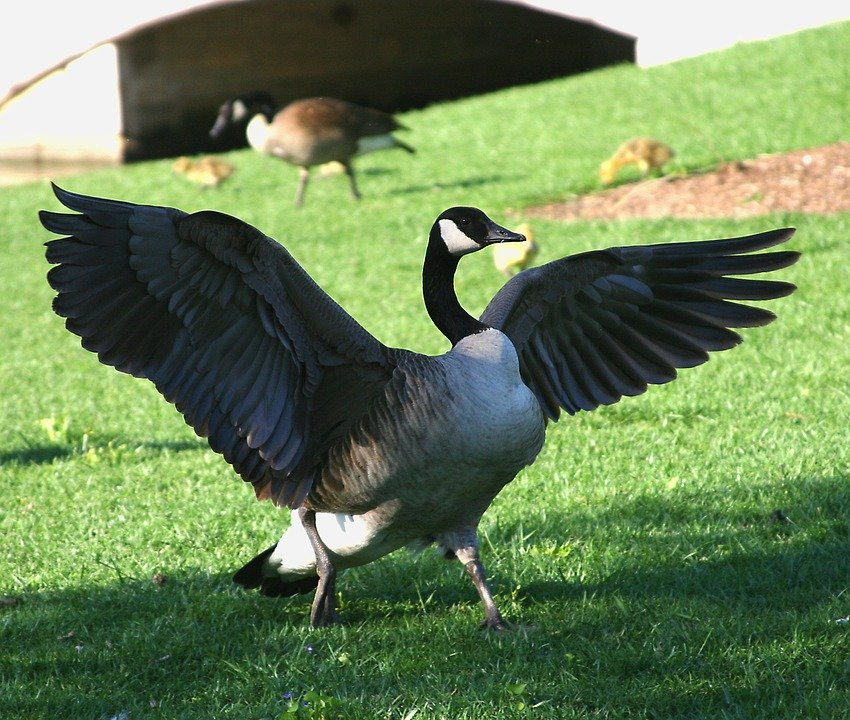goose: (27, 202, 810, 646), (205, 91, 432, 211)
